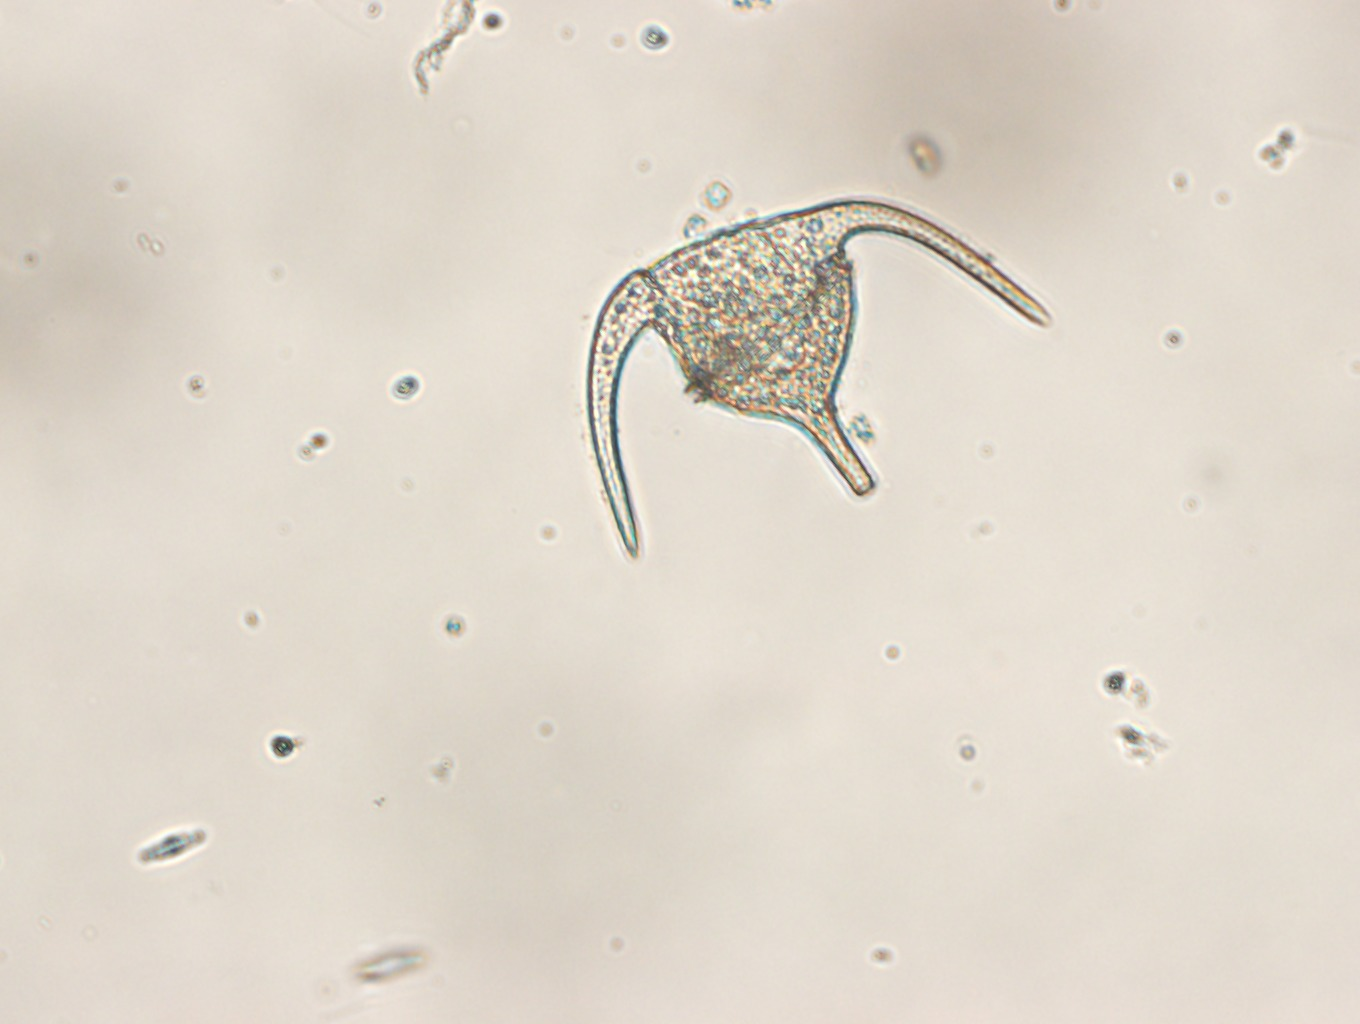ceratium tripos: (587, 197, 1055, 561)
